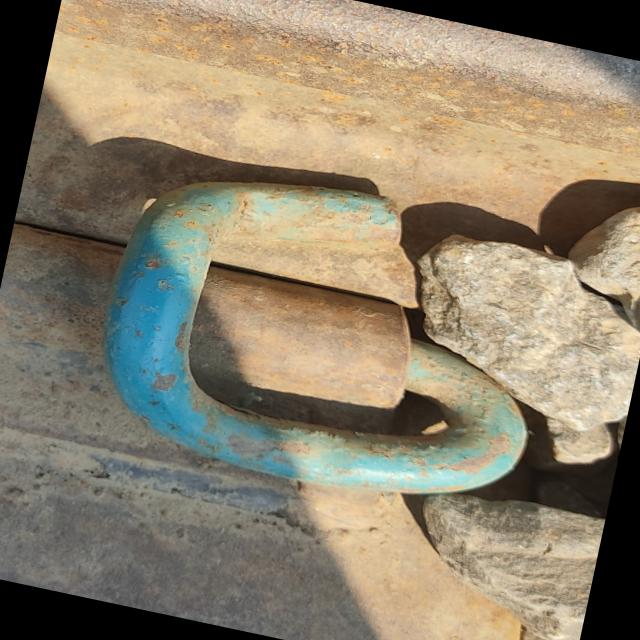track_bolt: (70, 137, 582, 533)
